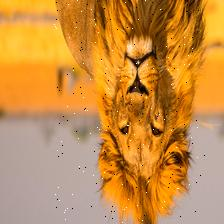Lion: (54, 0, 206, 224)
